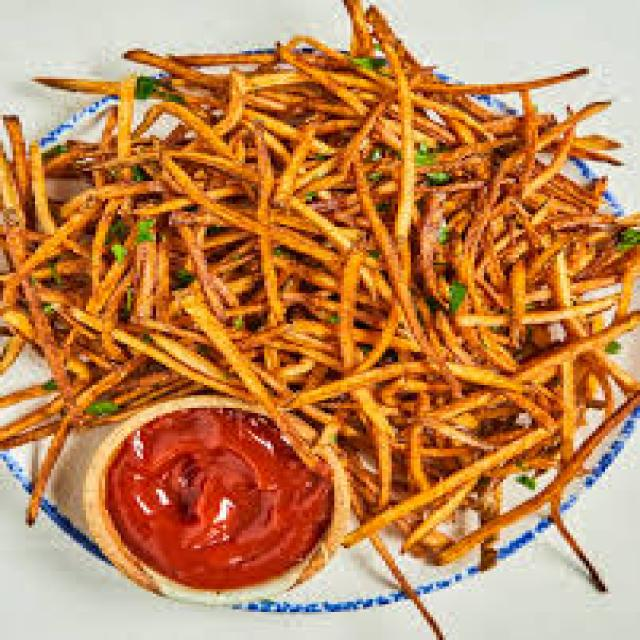감자튀김: (25, 3, 624, 454)
